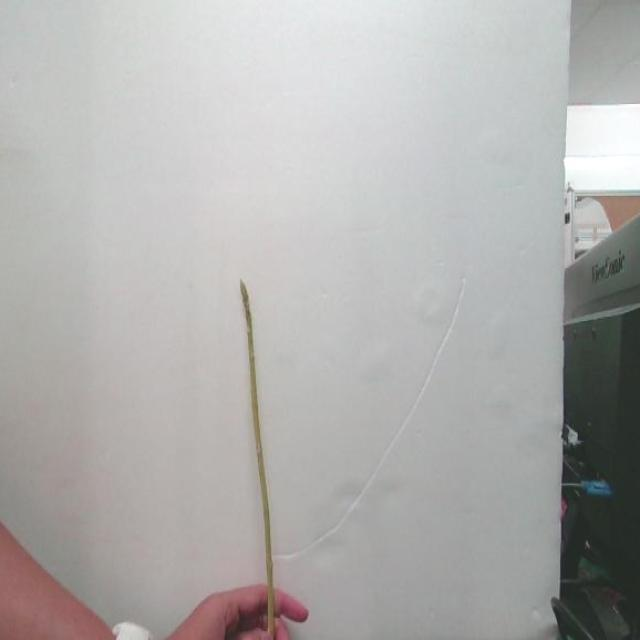aspargus: (241, 282, 275, 636)
